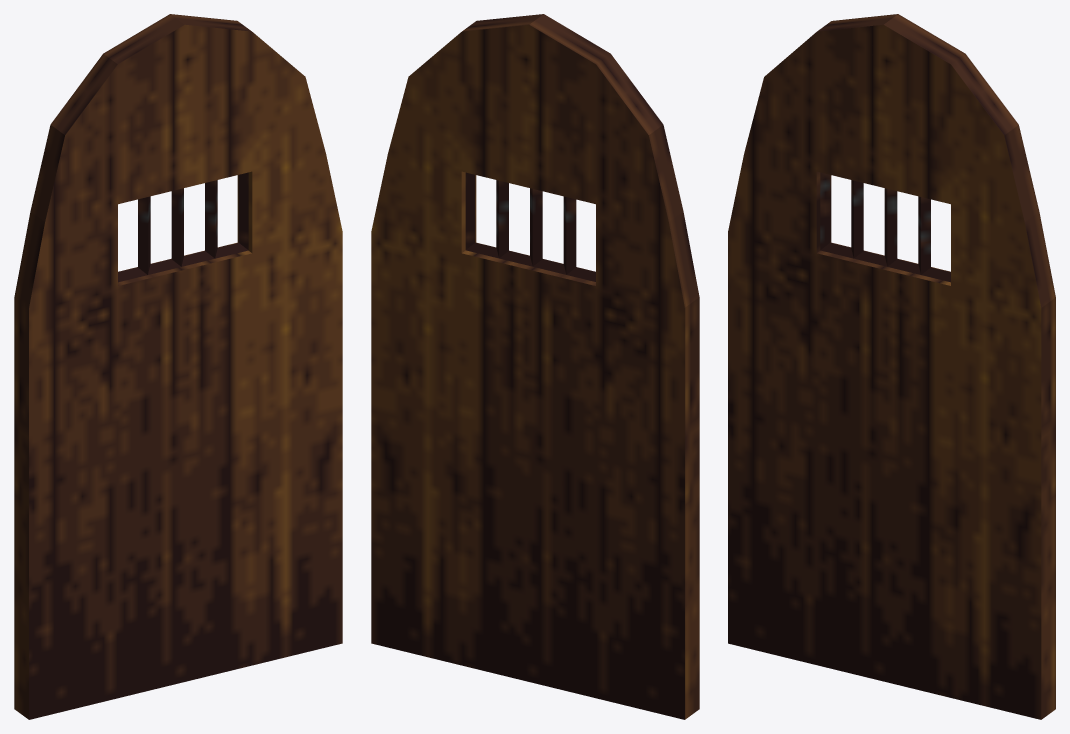
File: SM_Dungeon_Door.fbx
3 views of the same model, side by side, from view 1: azimuth 30°, elevation 25°; view 2: azimuth 150°, elevation 25°; view 3: azimuth 330°, elevation 25° (orthographic).
Visible parts, largest first — view 1: SM_Dungeon_Door; view 2: SM_Dungeon_Door; view 3: SM_Dungeon_Door.
Boxes of the visible parts, bbox=[...] form: SM_Dungeon_Door: bbox=[14, 14, 342, 719]; SM_Dungeon_Door: bbox=[371, 14, 699, 719]; SM_Dungeon_Door: bbox=[728, 14, 1055, 719].
Size of the model in its own units: 99.25 by 199 by 8.05.
